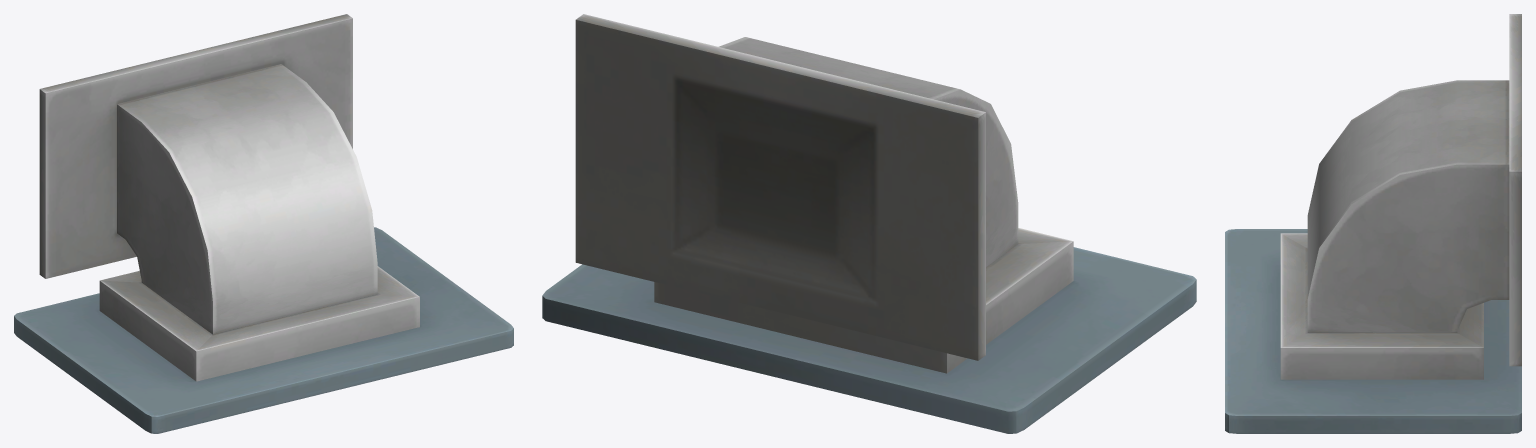
File: campana.fbx
The picture shows the model from 3 angles, left to right: view 1: azimuth 30°, elevation 25°; view 2: azimuth 150°, elevation 25°; view 3: azimuth 270°, elevation 25°; orthographic projection. The views are drawn at different scales.
Visible parts, largest first — view 1: s4studio_mesh_0; view 2: s4studio_mesh_0; view 3: s4studio_mesh_0.
Boxes of the visible parts, x1,y1,x2,y2 form: s4studio_mesh_0: (14,14,513,433); s4studio_mesh_0: (542,14,1196,433); s4studio_mesh_0: (1225,14,1521,433).
Bounding box in the file's own units: 100 × 61.68 × 67.02.
2 materials, 2 textured.
